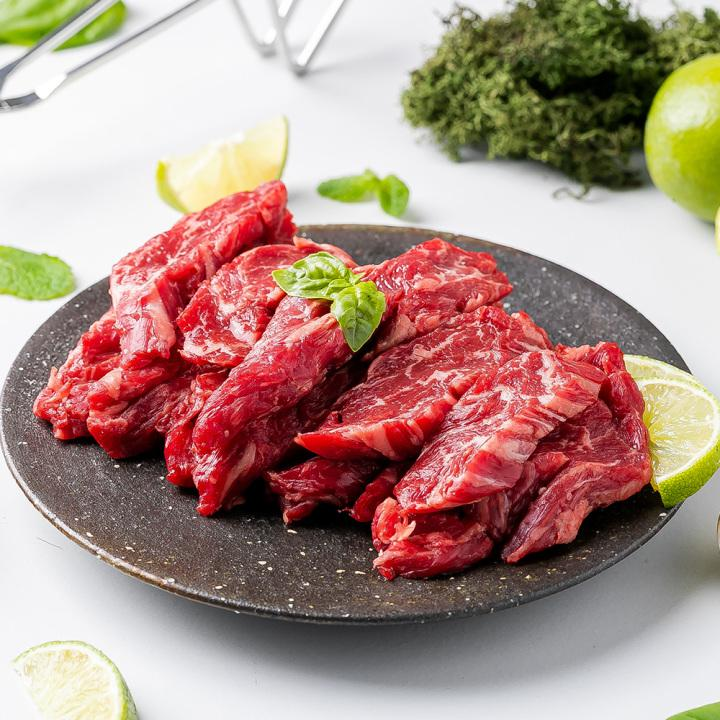beef: (463, 413, 658, 565), (149, 288, 304, 407)
